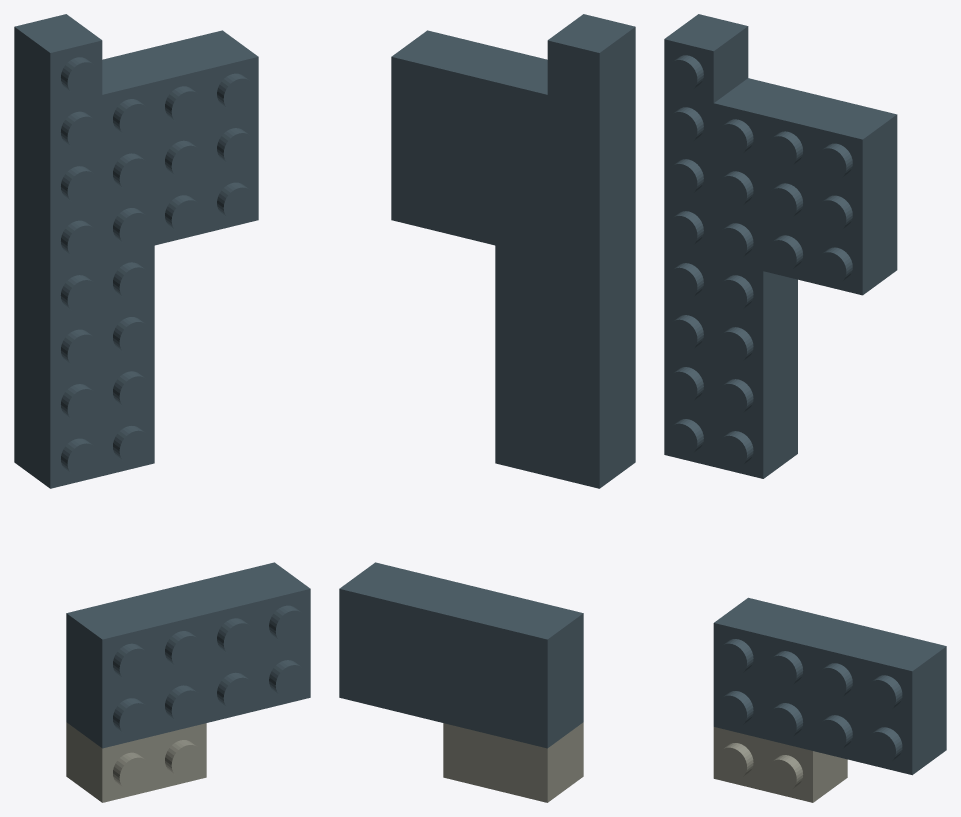
Rendered from current.glb.
3 renders of one model, left to right at view 1: azimuth 30°, elevation 25°; view 2: azimuth 150°, elevation 25°; view 3: azimuth 330°, elevation 25°, orthographic. The views are drawn at different scales.
Visible parts, largest first — view 1: world; view 2: world; view 3: world.
Boxes of the visible parts, bbox=[...] form: world: bbox=[14, 14, 310, 802]; world: bbox=[339, 14, 635, 802]; world: bbox=[664, 14, 946, 802].
Size of the model in its own units: 40 by 112 by 11.4.
